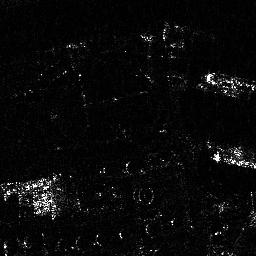ship: (204, 69, 256, 94)
